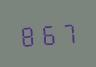eight: (18, 22, 36, 47)
seven: (57, 19, 75, 45)
six: (38, 20, 56, 46)
